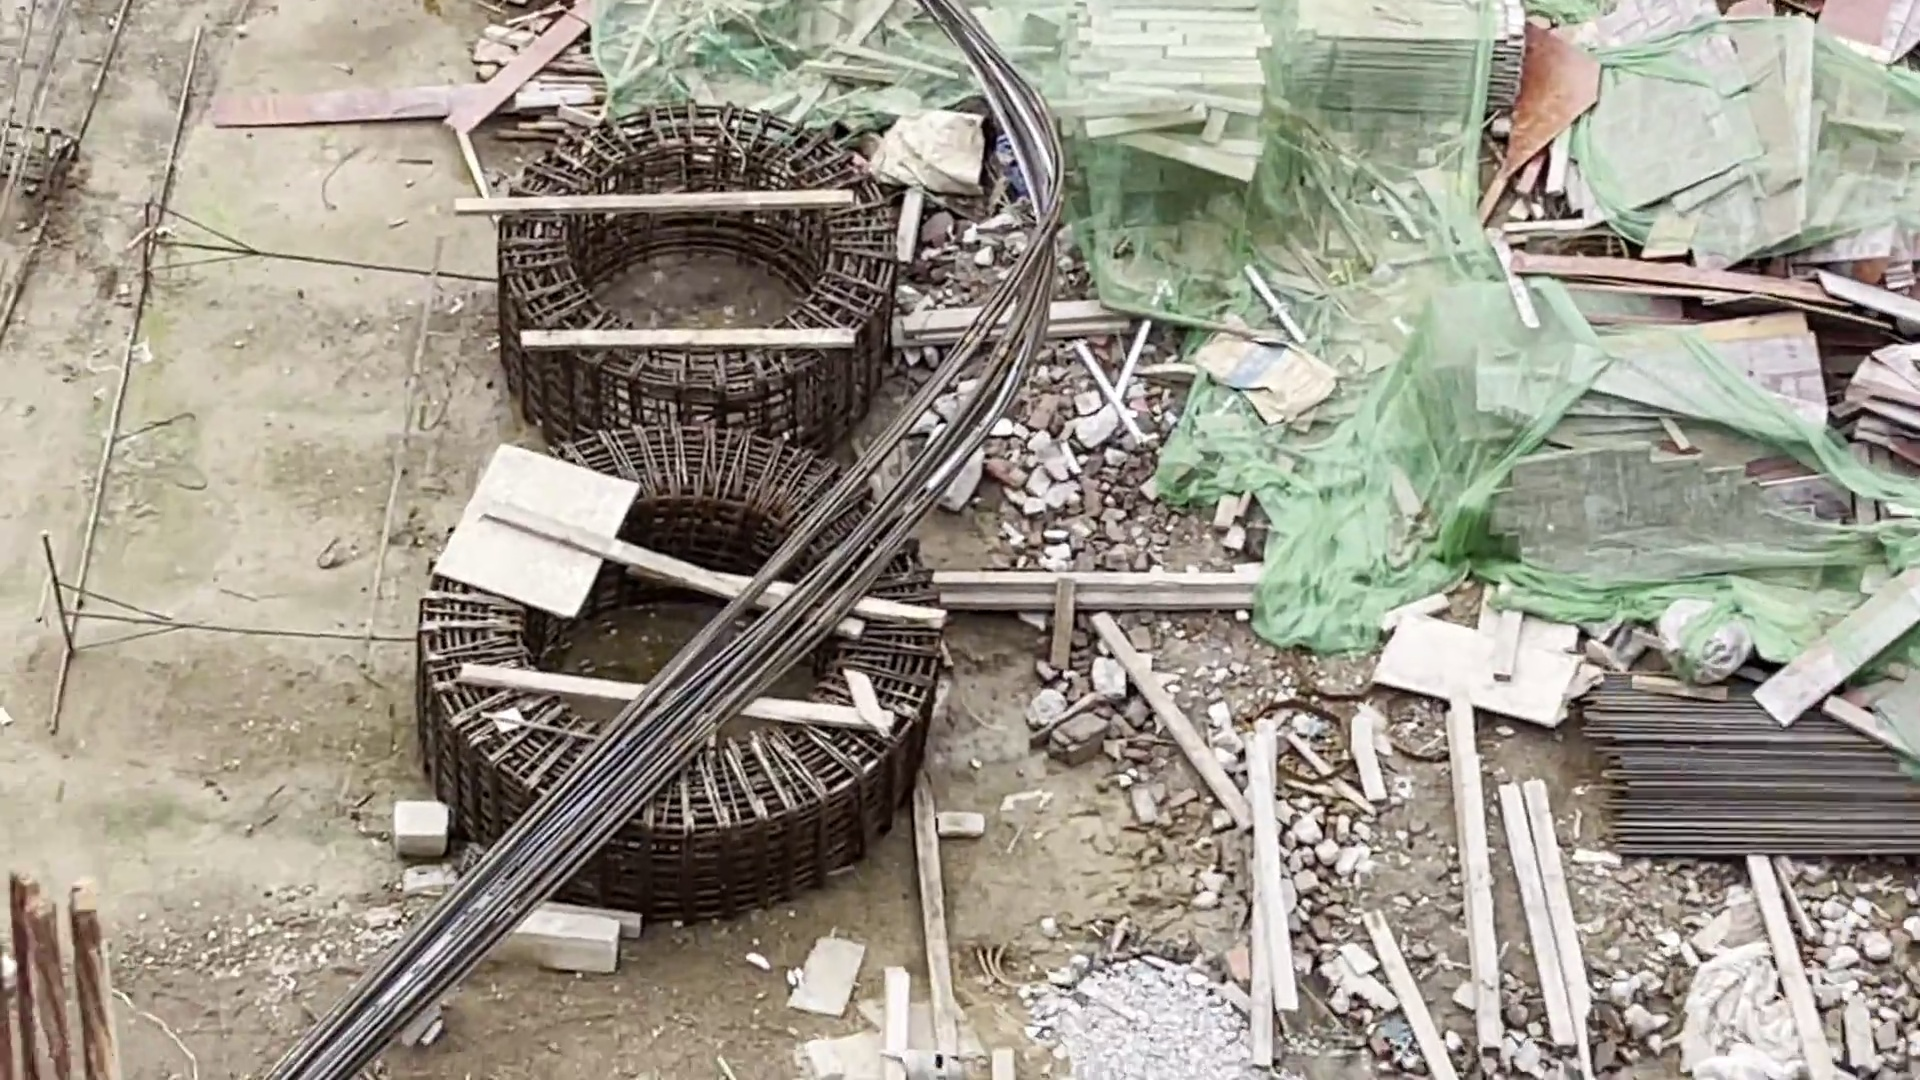wood: (1072, 7, 1510, 175)
